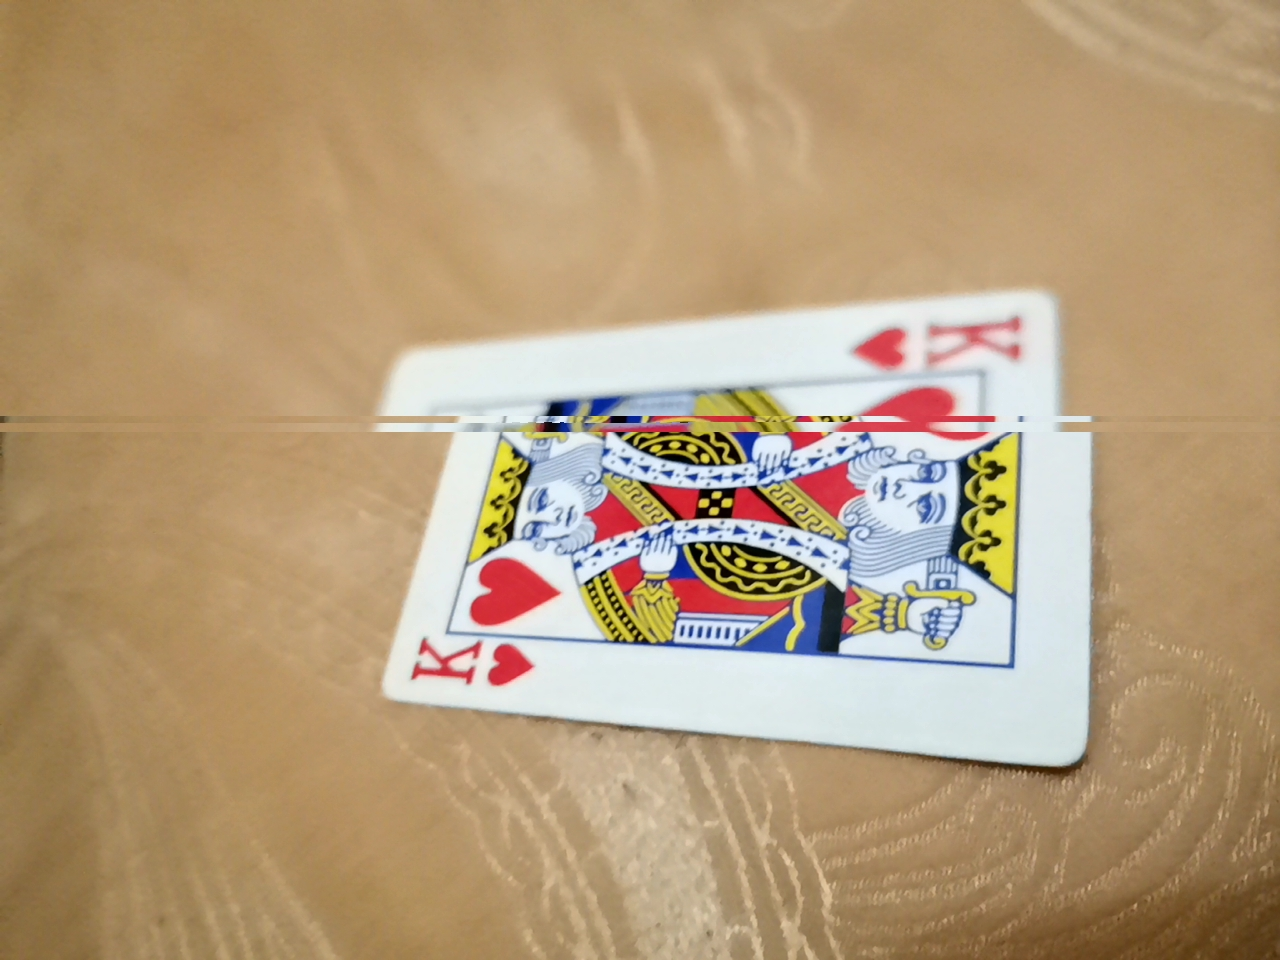hx k: (290, 281, 1072, 848)
